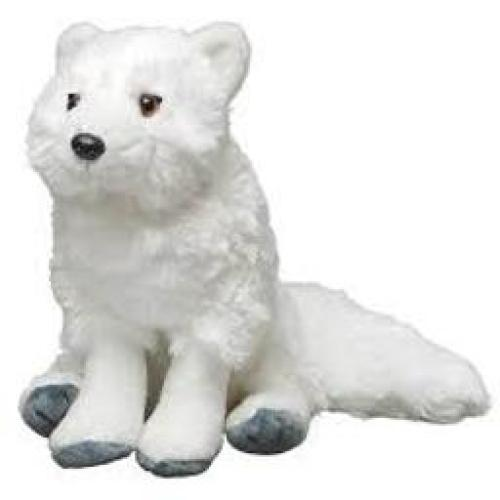arctic_fox-endangered: (26, 27, 485, 467)
